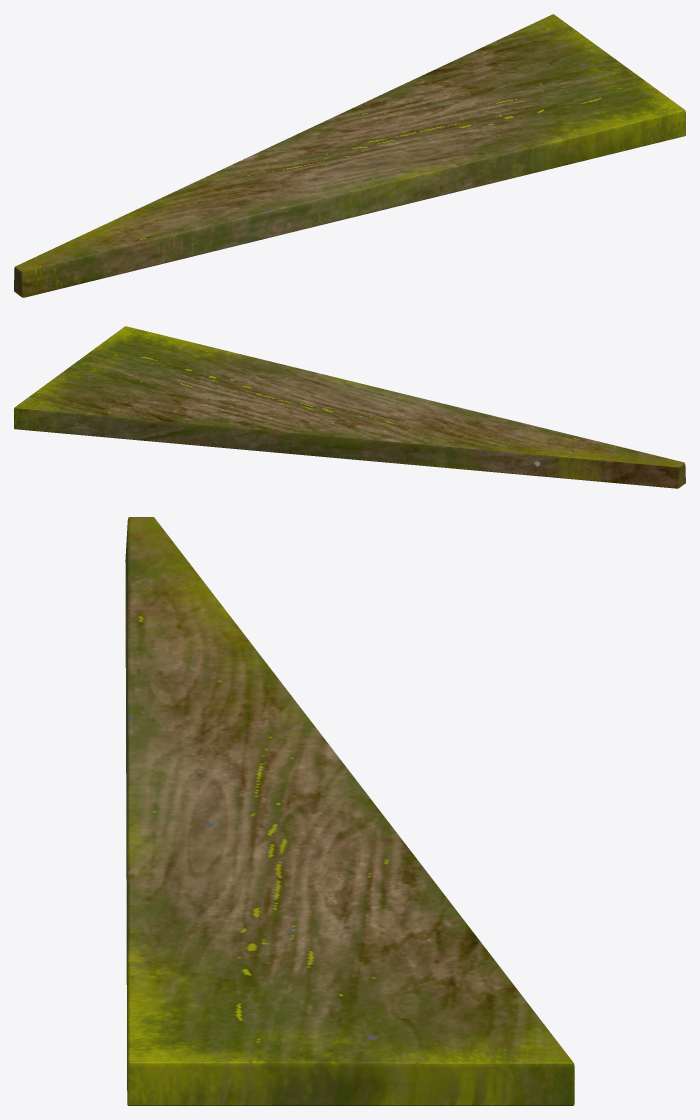
File: PNW Pathway_Curve_18_L_No Grip.glb
The picture shows the model from 3 angles, top to bottom: view 1: azimuth 30°, elevation 25°; view 2: azimuth 150°, elevation 25°; view 3: azimuth 270°, elevation 25°; orthographic projection. The views are drawn at different scales.
Parts seen in each view (by area): view 1: Curve_18_L_No Grip; view 2: Curve_18_L_No Grip; view 3: Curve_18_L_No Grip.
Part boxes in pixels (x1=…): Curve_18_L_No Grip: x1=14, y1=14, x2=685, y2=297; Curve_18_L_No Grip: x1=14, y1=326, x2=685, y2=488; Curve_18_L_No Grip: x1=125, y1=517, x2=574, y2=1105.
Size of the model in its own units: 1.52 by 0.057 by 0.5266.
Materials: 1 (1 with a texture image).
